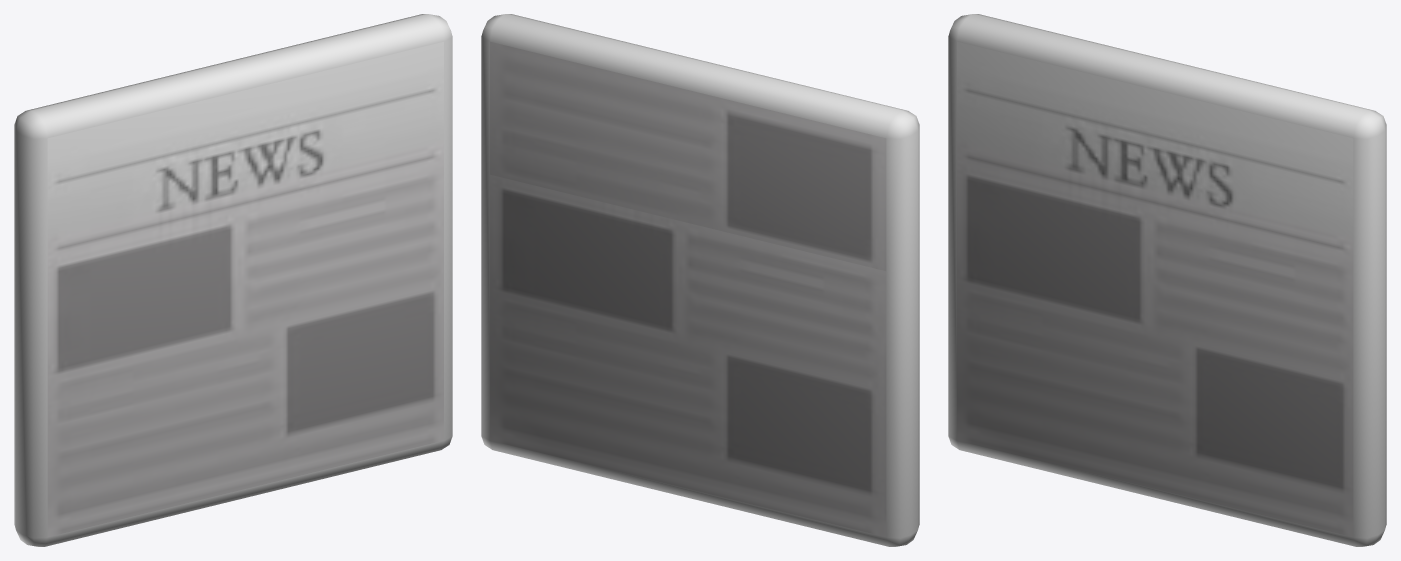
The model's file is 6-newspaper.glb.
3 views of the same model, side by side, from view 1: azimuth 30°, elevation 25°; view 2: azimuth 150°, elevation 25°; view 3: azimuth 330°, elevation 25° (orthographic).
Parts seen in each view (by area): view 1: newspaper.001; view 2: newspaper.001; view 3: newspaper.001.
Boxes of the visible parts, box(x1,y1,x2,y2) form: newspaper.001: box(14, 14, 452, 546); newspaper.001: box(481, 14, 919, 546); newspaper.001: box(948, 14, 1386, 546).
Bounding box in the file's own units: 7.51 × 7.22 × 0.7463.
1 material, 1 textured.
